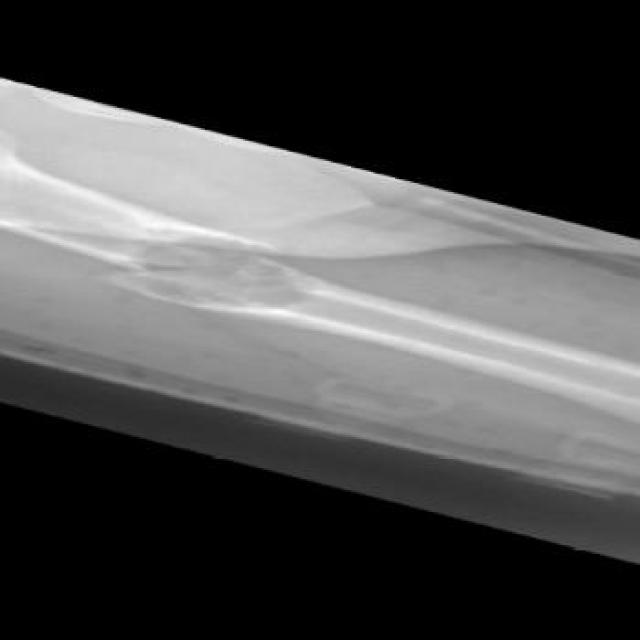Fracture: (77, 216, 359, 333)
